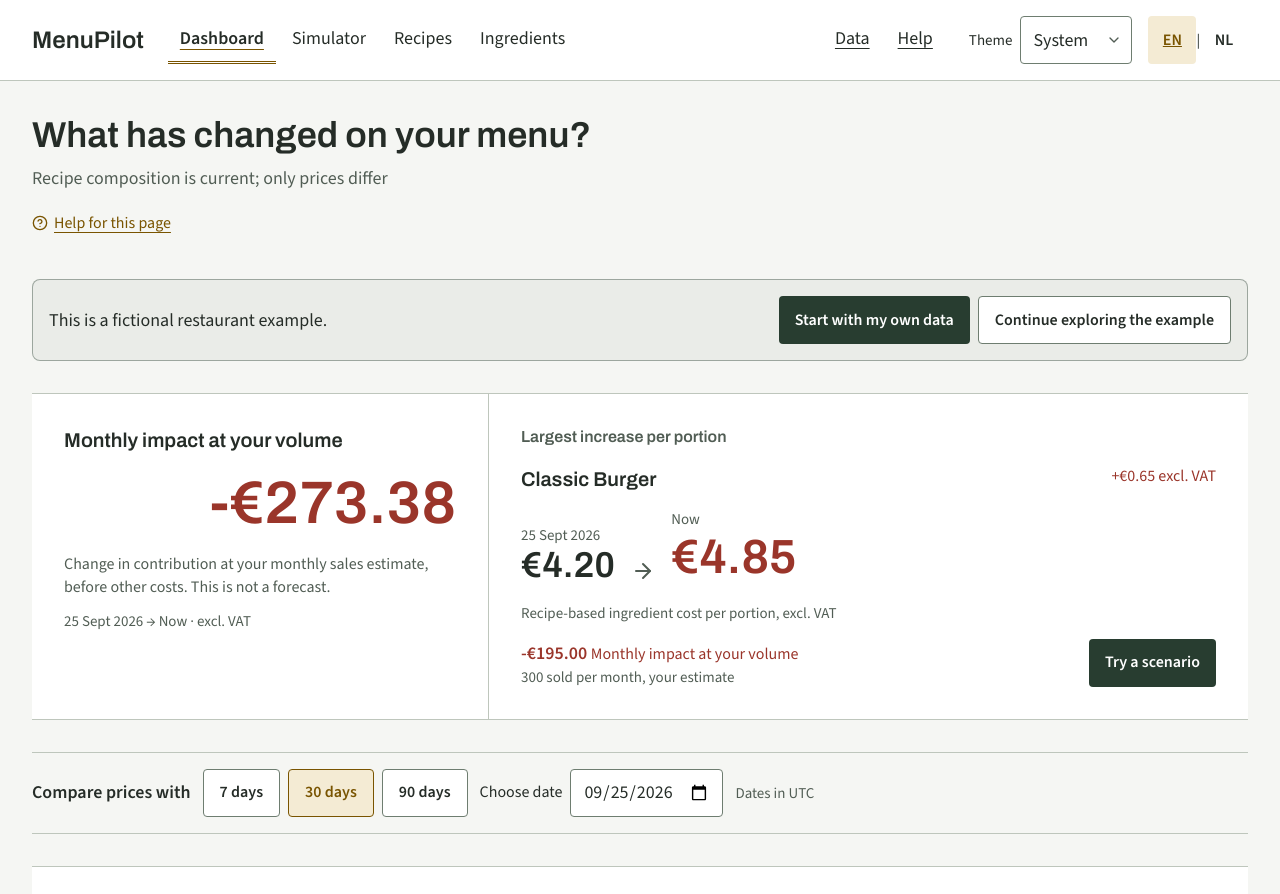
Test: UI preferences › switches shell and html language, persists locale, never translates existing data
Click the button with aria-label "NL – Nederlands". click: point(1224, 40)
box: [1200,16,1248,64]
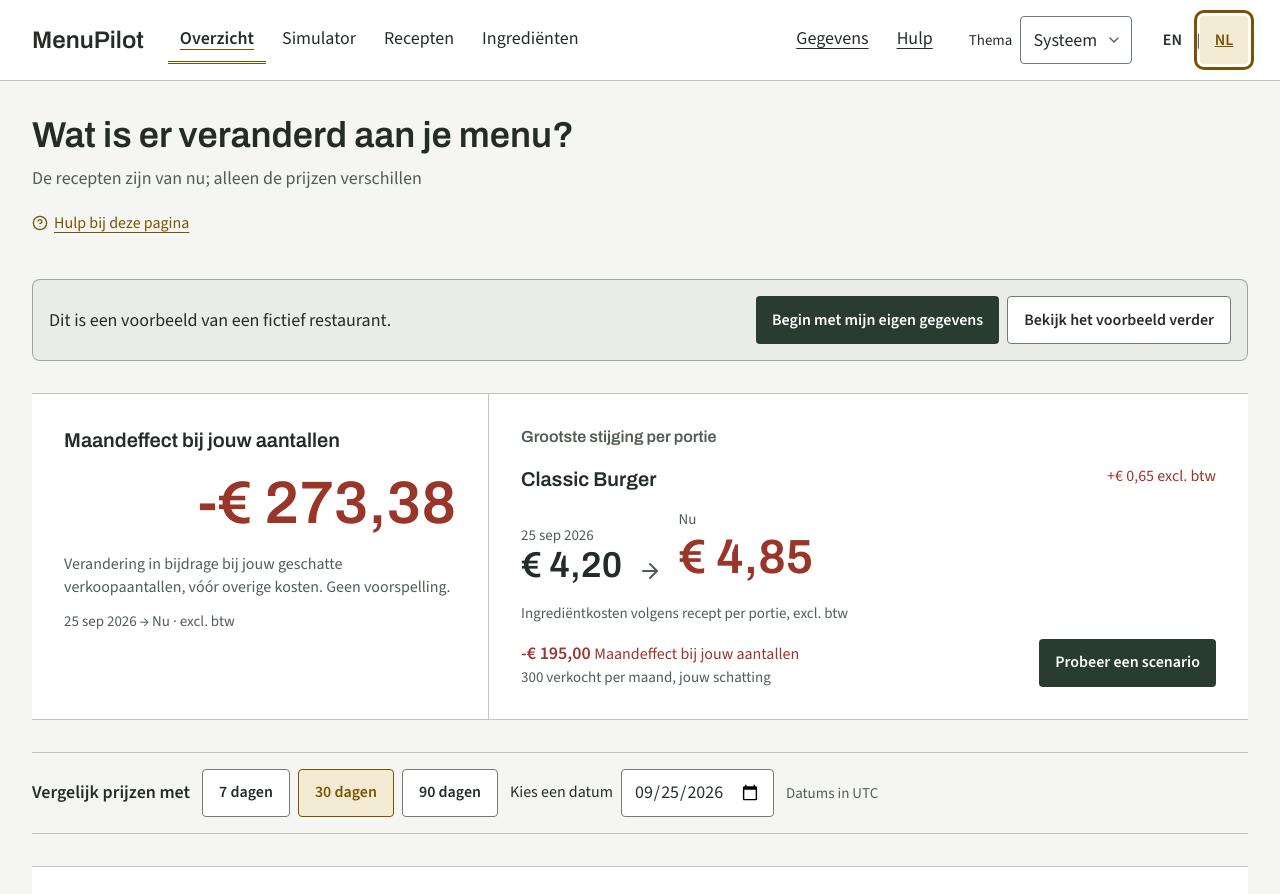
expect the dropdown labelled "Thema" is shown: met, box [1020,16,1132,64]
expect the link "Overzicht" is shown: met, box [168,16,266,64]
